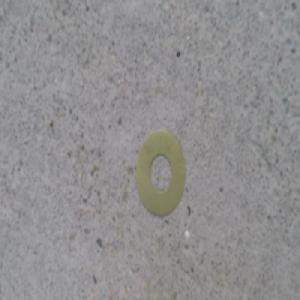Washer: (136, 126, 188, 221)
